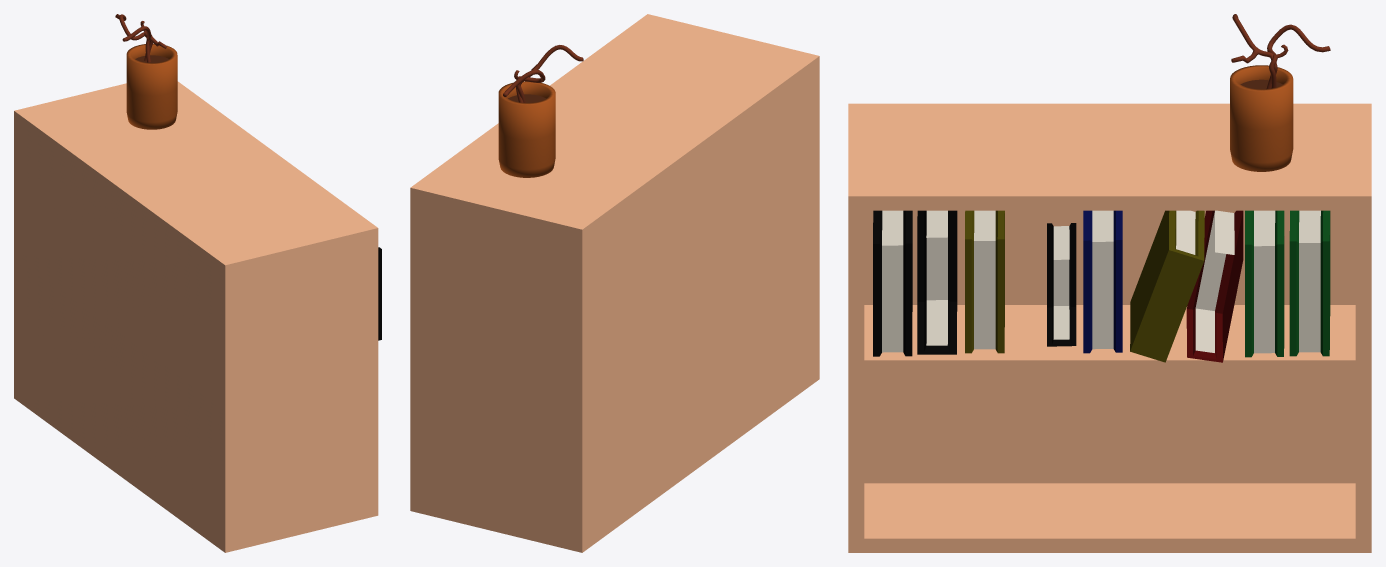
File: library2.glb
3 views of the same model, side by side, from view 1: azimuth 30°, elevation 25°; view 2: azimuth 150°, elevation 25°; view 3: azimuth 270°, elevation 25° (orthographic). The views are drawn at different scales.
Visible parts, largest first — view 1: Gabeta.001, Círculo, Curva_Bezier; view 2: Gabeta.001, Círculo, Curva_Bezier; view 3: Gabeta.001, Círculo, Curva_Bezier.
Part boxes in pixels (x1,y1,x2,y2): Gabeta.001: (14,81,381,552); Círculo: (126,43,177,129); Curva_Bezier: (115,14,166,62); Gabeta.001: (410,14,819,552); Círculo: (498,81,555,177); Curva_Bezier: (503,45,583,102); Gabeta.001: (848,103,1371,552); Círculo: (1230,65,1293,171); Curva_Bezier: (1231,14,1330,89).
Bounding box in the file's own units: 0.689 × 1.51 × 1.47.
